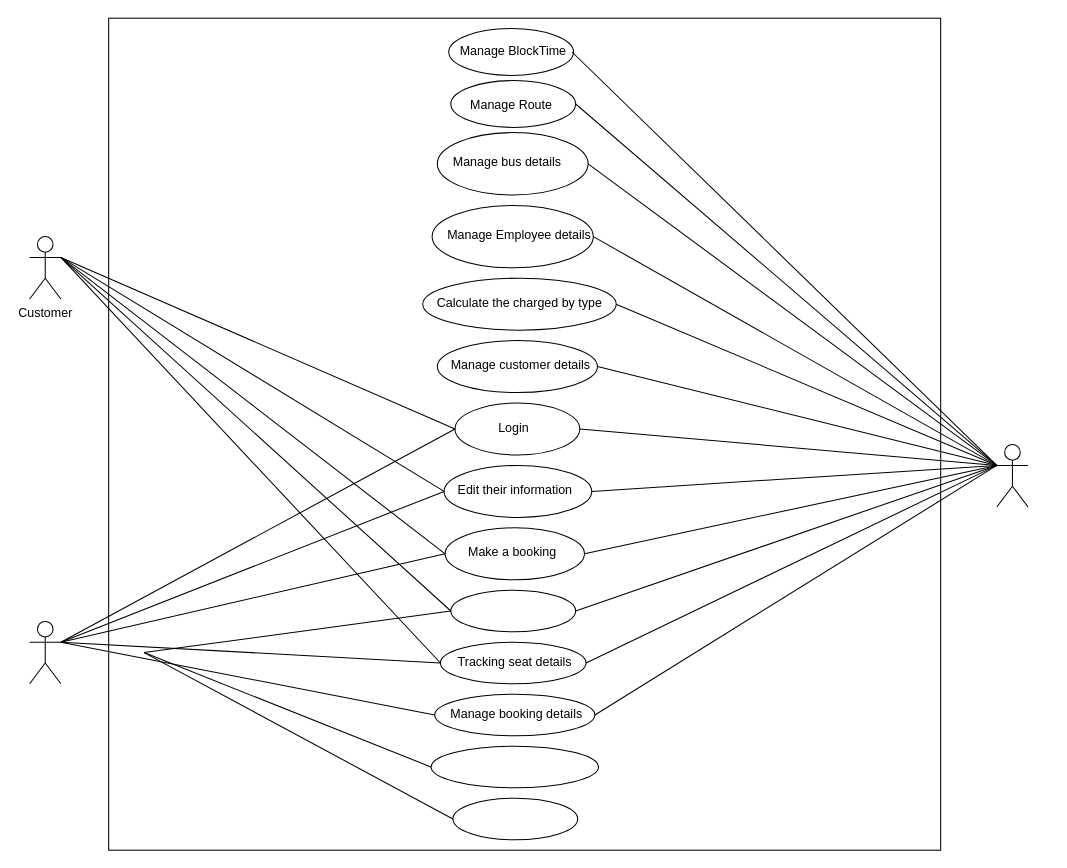
Image size: 1067x868. Some labels were removed from this diagram. The shapes that lost their labels are listed below. From the top down, each one's centre as x and y in pixels, then its label:
At (x=1012, y=475): "Administrator".
At (x=513, y=610): "Search option".
At (x=45, y=652): "Employee".
At (x=514, y=766): "Create customer account".
At (x=515, y=818): "Print ticket".
